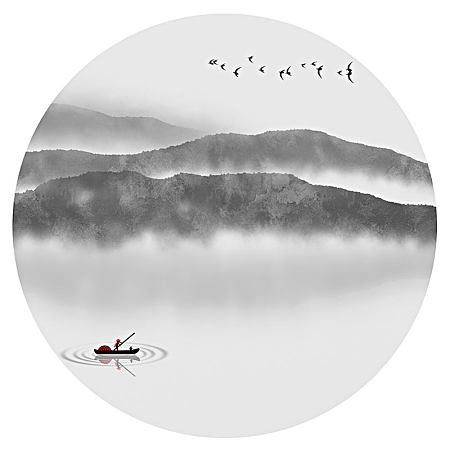ImgView: (1, 1, 449, 449)
